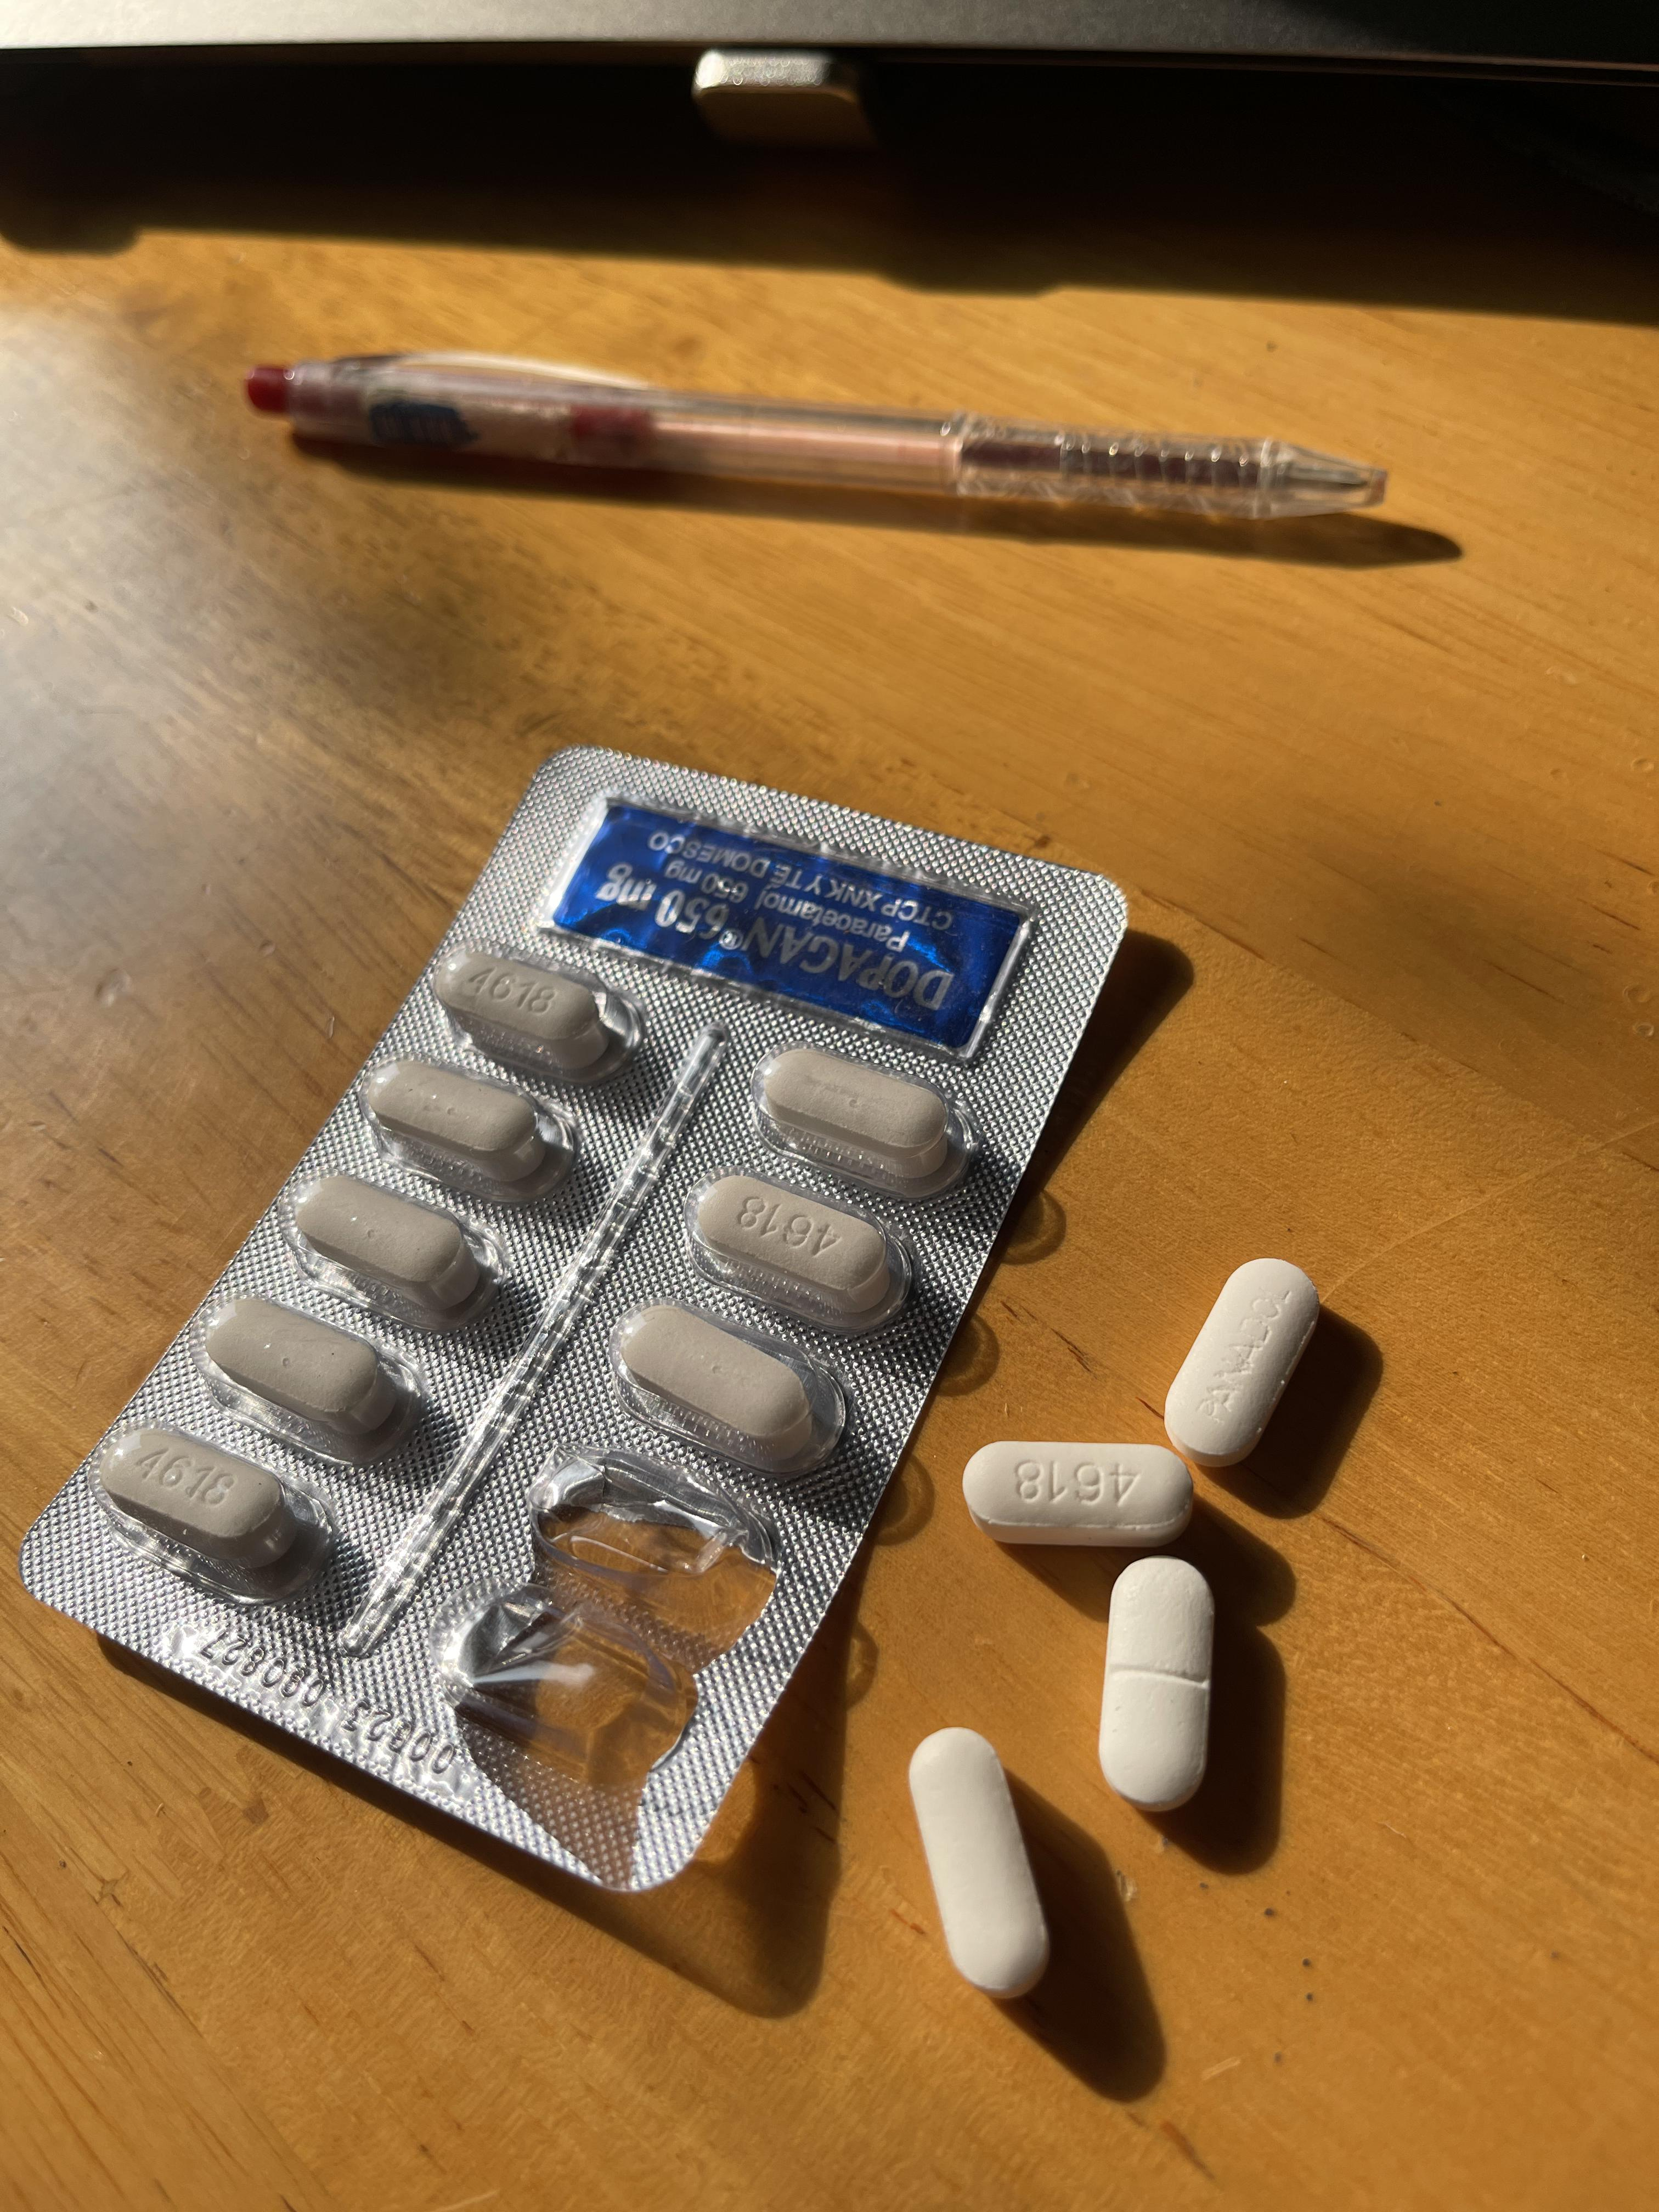Paracetamol_350mg: (1168, 1261, 1319, 1467), (1100, 1559, 1215, 1817)
Paracetamol_500mg: (612, 1296, 843, 1480), (908, 1730, 1049, 1996), (688, 1167, 915, 1327), (284, 1172, 498, 1332), (206, 1296, 415, 1458), (751, 1042, 967, 1197), (101, 1426, 301, 1573), (366, 1055, 568, 1200), (437, 946, 645, 1085), (962, 1440, 1187, 1552)
